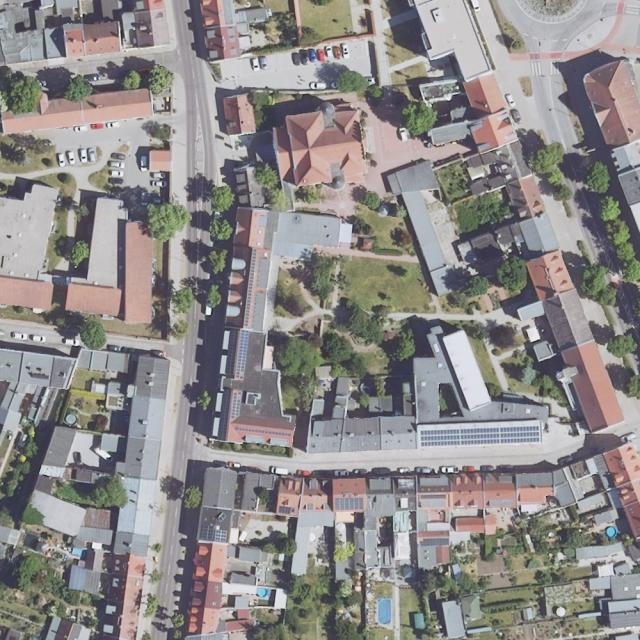PV: (419, 426, 540, 447), (243, 248, 258, 327), (235, 330, 250, 379), (234, 426, 292, 437), (202, 525, 228, 542), (334, 497, 364, 510), (232, 391, 242, 418), (419, 538, 450, 546), (278, 506, 291, 515), (217, 512, 226, 522)
